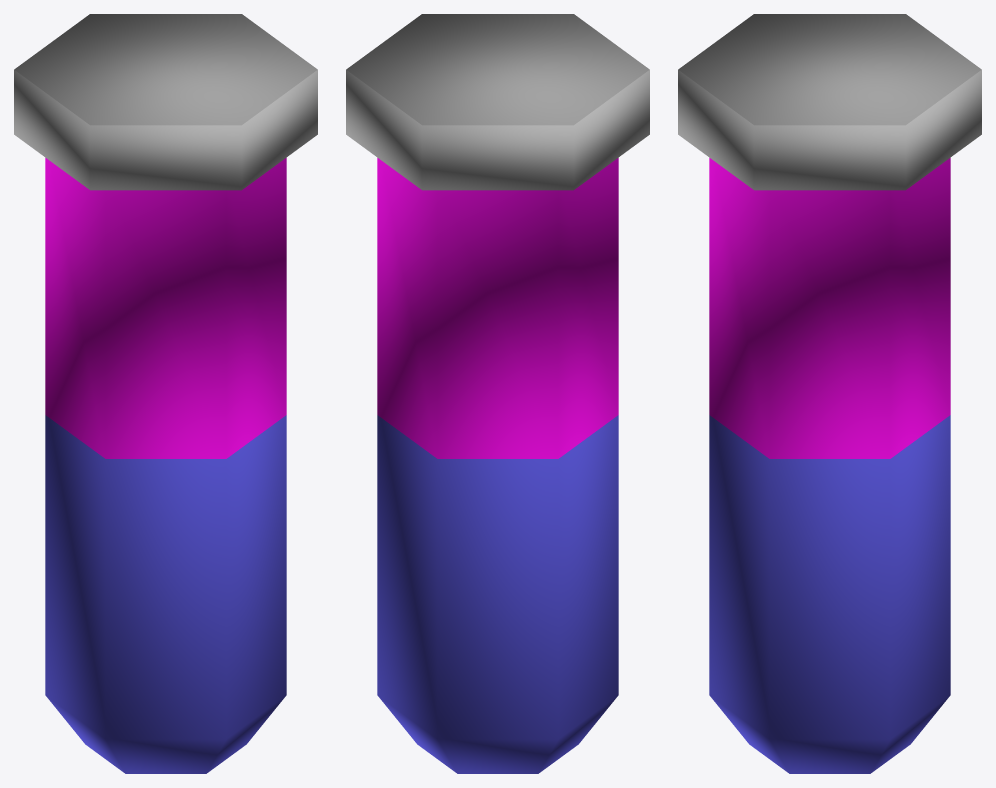
The model's file is Coin Extract VialBlue.fbx.
The picture shows the model from 3 angles, left to right: view 1: azimuth 30°, elevation 25°; view 2: azimuth 150°, elevation 25°; view 3: azimuth 270°, elevation 25°; orthographic projection.
Visible parts, largest first — view 1: Cylinder; view 2: Cylinder; view 3: Cylinder.
Boxes of the visible parts, x1,y1,x2,y2 form: Cylinder: (14,14,317,773); Cylinder: (346,14,649,773); Cylinder: (678,14,981,773).
Bounding box in the file's own units: 218 × 617 × 252.
